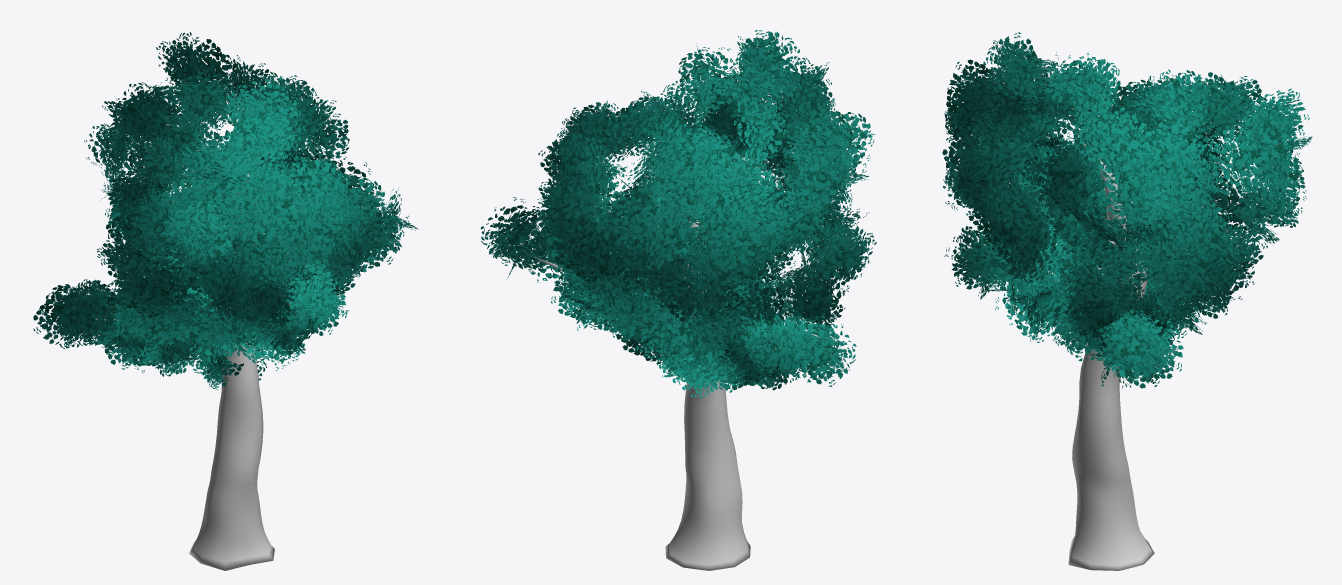
Rendered from Tree_M_02.fbx.
3 views of the same model, side by side, from view 1: azimuth 30°, elevation 25°; view 2: azimuth 150°, elevation 25°; view 3: azimuth 270°, elevation 25° (orthographic). The views are drawn at different scales.
Visible parts, largest first — view 1: Tree_M2_Leaves5, Tree_M_02, Tree_M2_Leaves1, Tree_M2_Leaves2, Tree_M2_Leaves4, Tree_M2_Leaves3, Tree_M2_Leaves6; view 2: Tree_M2_Leaves5, Tree_M_02, Tree_M2_Leaves1, Tree_M2_Leaves3, Tree_M2_Leaves6, Tree_M2_Leaves4; view 3: Tree_M2_Leaves5, Tree_M_02, Tree_M2_Leaves6, Tree_M2_Leaves2, Tree_M2_Leaves3, Tree_M2_Leaves4.
Boxes of the visible parts, box(x1,y1,x2,y2) form: Tree_M2_Leaves5: box(84, 32, 391, 365); Tree_M_02: box(95, 174, 329, 570); Tree_M2_Leaves1: box(33, 279, 266, 389); Tree_M2_Leaves2: box(215, 254, 348, 370); Tree_M2_Leaves4: box(156, 197, 259, 306); Tree_M2_Leaves3: box(289, 189, 418, 297); Tree_M2_Leaves6: box(175, 148, 299, 268); Tree_M2_Leaves5: box(533, 30, 876, 363); Tree_M_02: box(525, 211, 796, 570); Tree_M2_Leaves1: box(651, 300, 856, 398); Tree_M2_Leaves3: box(480, 197, 695, 364); Tree_M2_Leaves6: box(600, 127, 754, 292); Tree_M2_Leaves4: box(703, 111, 875, 294); Tree_M2_Leaves5: box(942, 32, 1312, 361); Tree_M_02: box(1040, 143, 1154, 570); Tree_M2_Leaves6: box(1041, 114, 1232, 277); Tree_M2_Leaves2: box(944, 212, 1116, 353); Tree_M2_Leaves3: box(1091, 297, 1183, 388); Tree_M2_Leaves4: box(981, 65, 1128, 273).
Size of the model in its own units: 965 by 1146 by 797.
